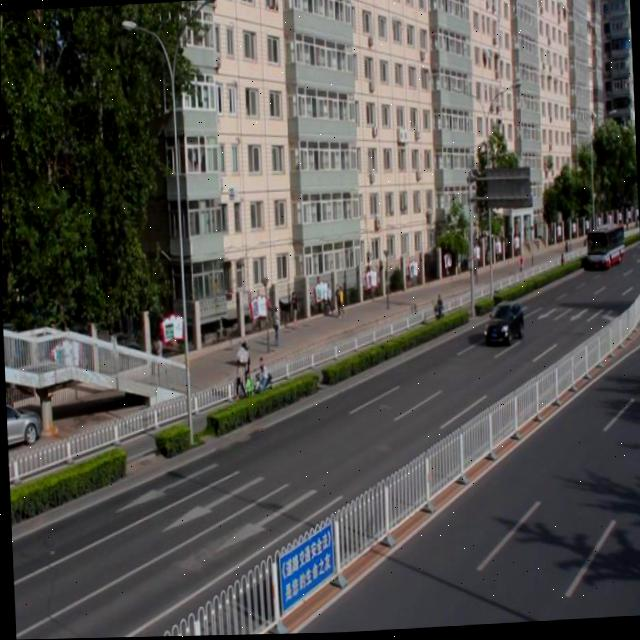car: (482, 297, 523, 346)
